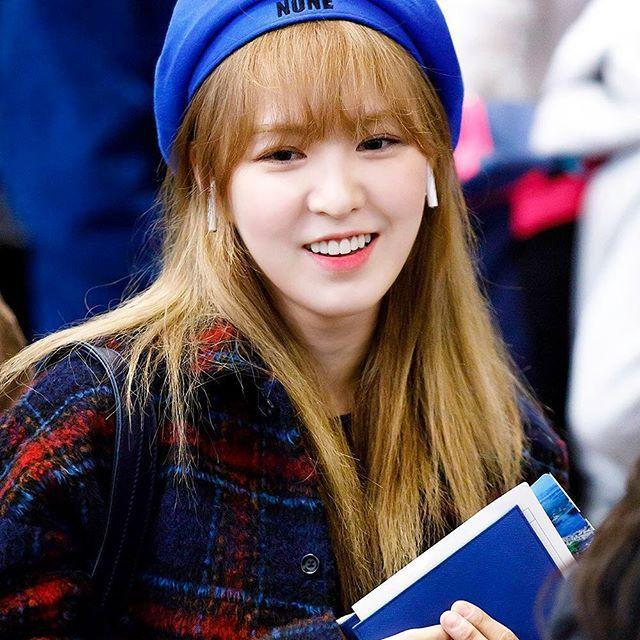earphone: (416, 151, 445, 214), (199, 172, 228, 234)
